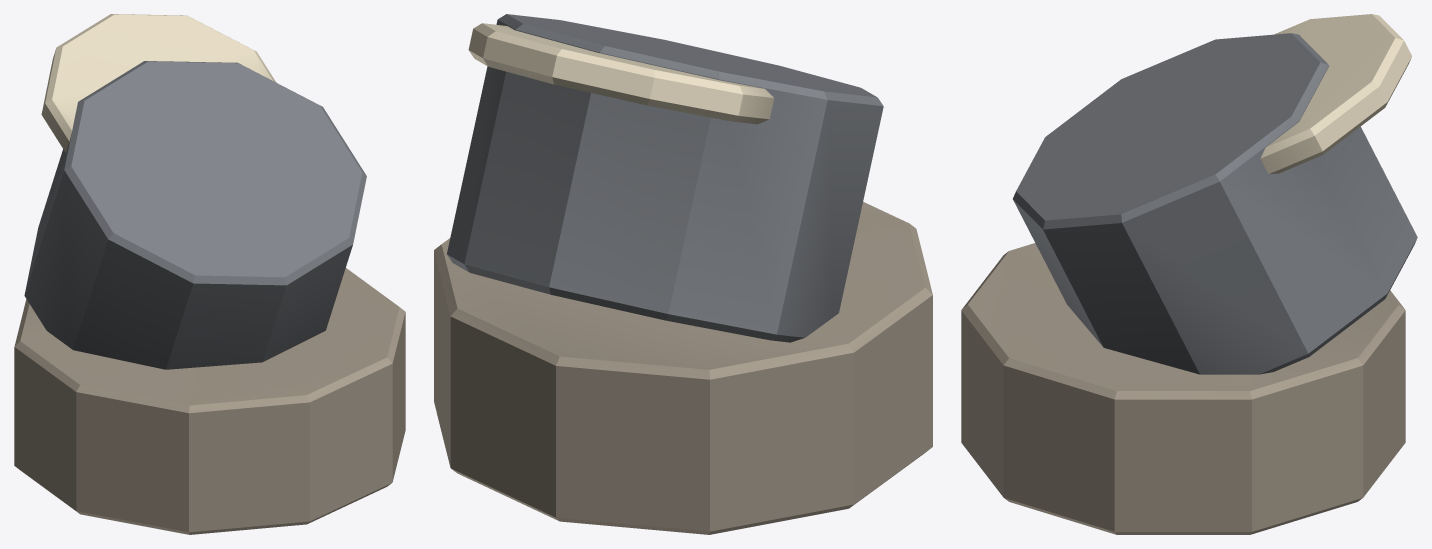
File: uplight.glb
3 renders of one model, left to right at view 1: azimuth 30°, elevation 25°; view 2: azimuth 150°, elevation 25°; view 3: azimuth 270°, elevation 25°, orthographic. The views are drawn at different scales.
Size of the model in its own units: 0.2663 by 0.2853 by 0.2876.
